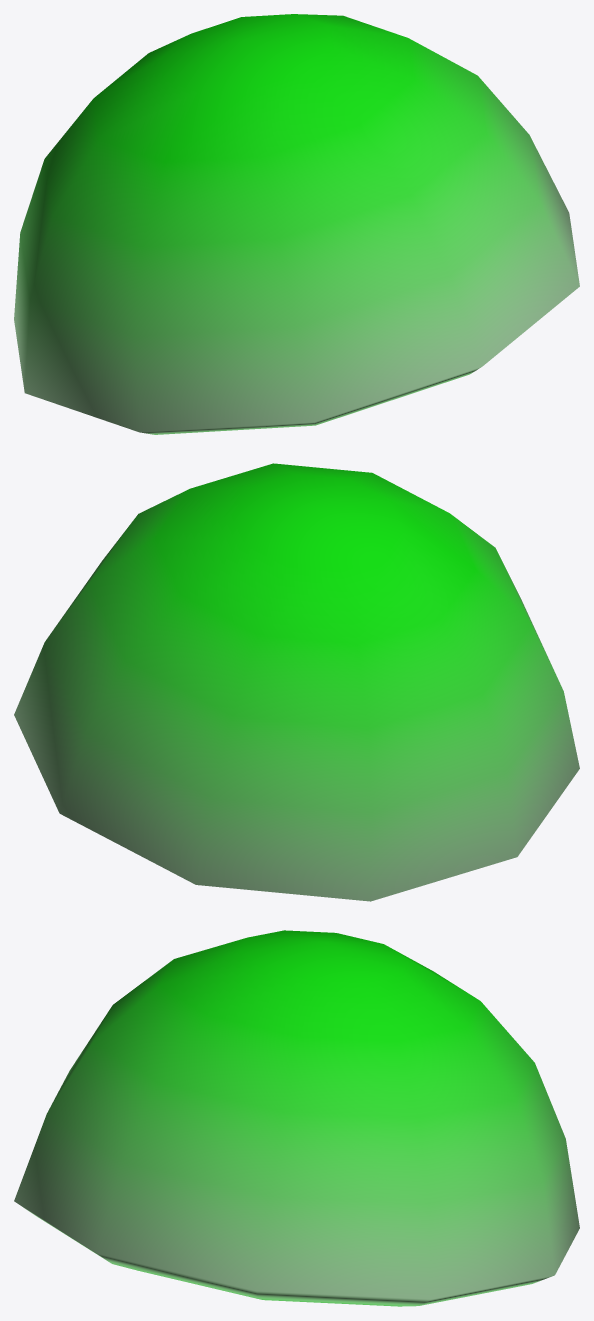
File: CamerShakeGroup.fbx
The picture shows the model from 3 angles, top to bottom: view 1: azimuth 30°, elevation 25°; view 2: azimuth 150°, elevation 25°; view 3: azimuth 270°, elevation 25°; orthographic projection. The views are drawn at different scales.
Parts seen in each view (by area): view 1: skyPlane; view 2: skyPlane; view 3: skyPlane.
Part boxes in pixels (<box>): skyPlane: <box>14,14,579,434</box>; skyPlane: <box>14,463,579,901</box>; skyPlane: <box>14,930,579,1306</box>.
Bounding box in the file's own units: 1144 × 707 × 1148.
